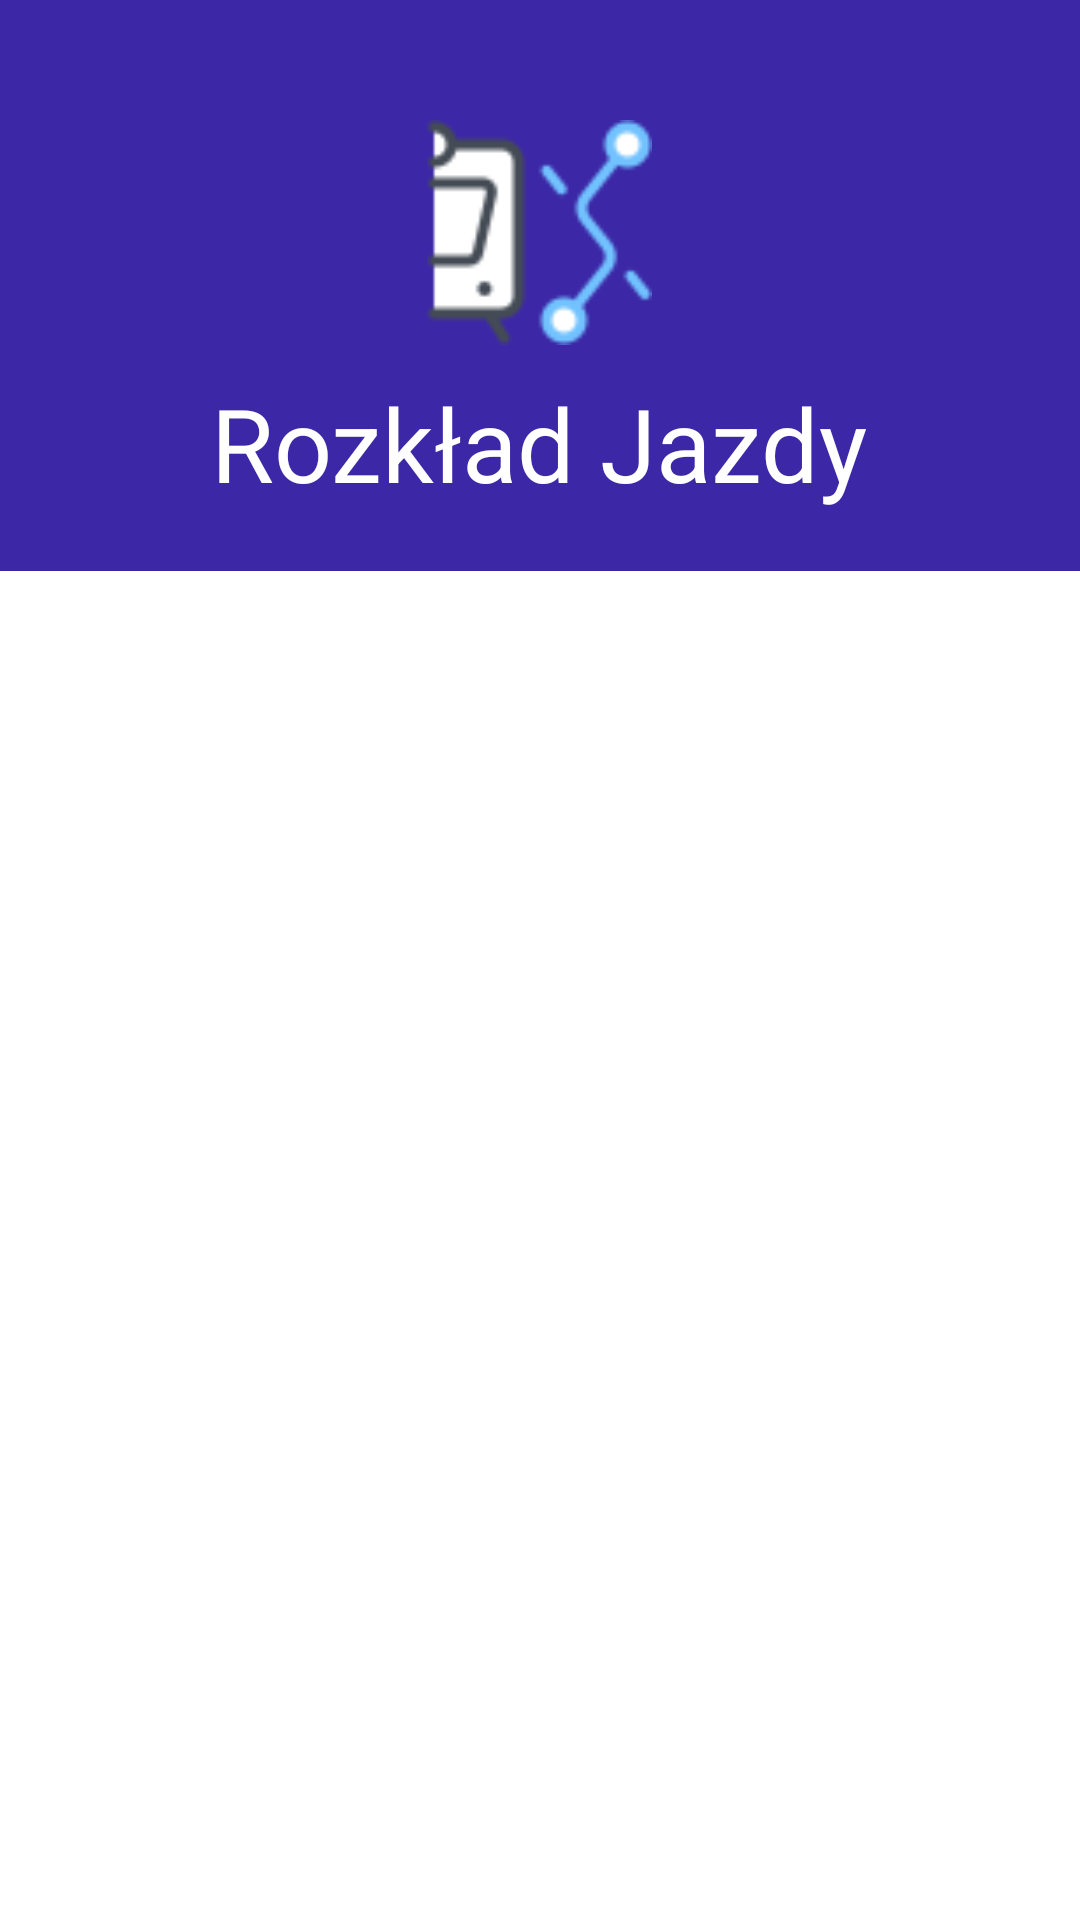

Point at icon controls on the screen. Image size 1080 × 1920, points as [x,y].
train route: [539,232]
